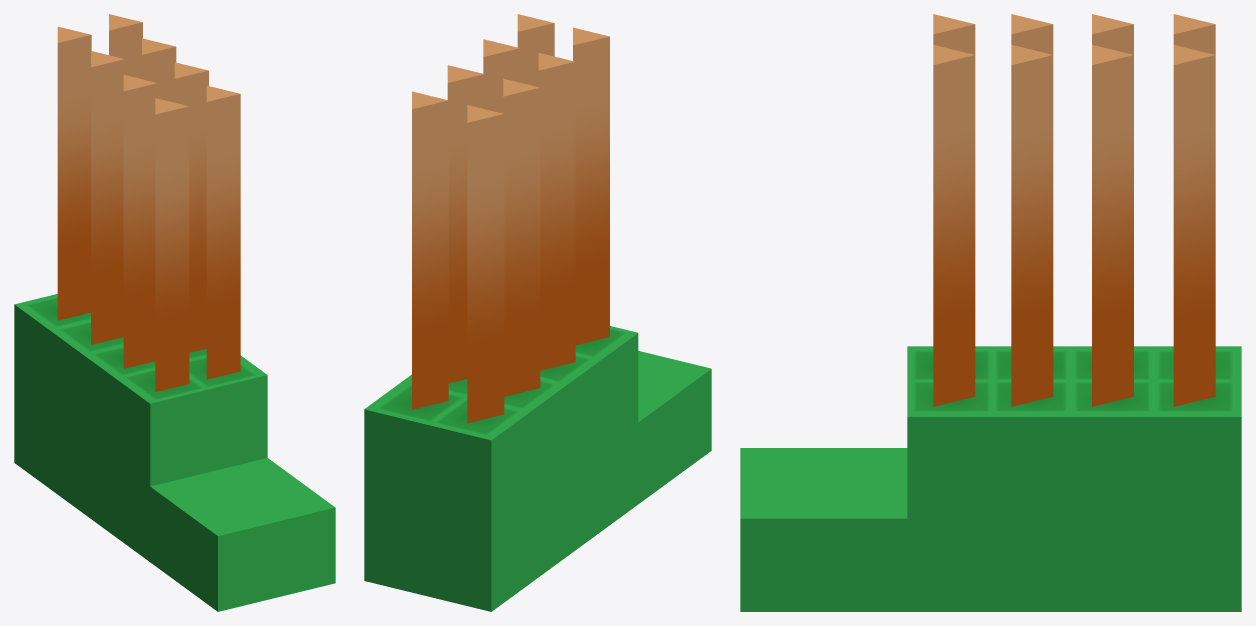
The model's file is PowerConnectors3.fbx.
3 views of the same model, side by side, from view 1: azimuth 30°, elevation 25°; view 2: azimuth 150°, elevation 25°; view 3: azimuth 270°, elevation 25° (orthographic). The views are drawn at different scales.
Visible parts, largest first — view 1: PowerConnectors3; view 2: PowerConnectors3; view 3: PowerConnectors3.
Part boxes in pixels (box(x1,y1,x2,y2)): PowerConnectors3: box(14, 14, 335, 611); PowerConnectors3: box(364, 14, 711, 611); PowerConnectors3: box(740, 14, 1241, 611).
Bounding box in the file's own units: 0.5 × 1.77 × 1.5.
